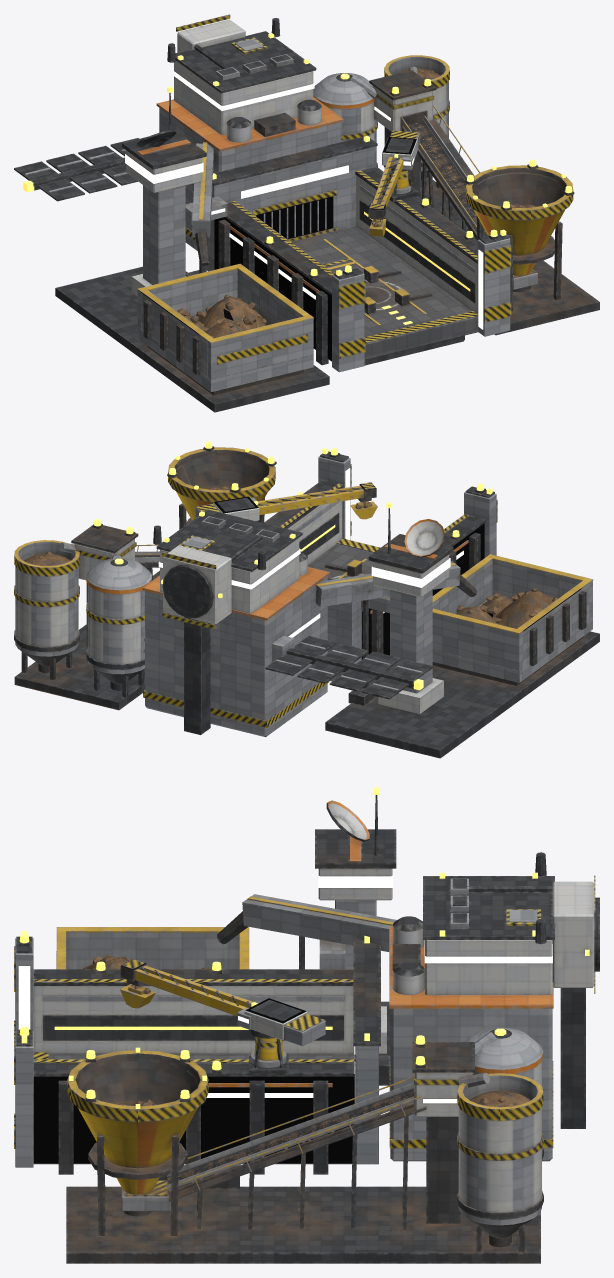
The model's file is mining_outpost.glb.
3 views of the same model, one above another, from view 1: azimuth 30°, elevation 25°; view 2: azimuth 150°, elevation 25°; view 3: azimuth 270°, elevation 25° (orthographic). The views are drawn at different scales.
Visible parts, largest first — view 1: outpost_structure, outpost_hangar, outpost_silos, unload_arm, ore_conveyor_belt, outpost_crane, unload_lights; view 2: outpost_structure, outpost_silos, outpost_hangar, unload_arm, unload_lights, ore_silo_fill; view 3: outpost_silos, outpost_structure, outpost_hangar, unload_arm, ore_conveyor_belt, outpost_crane, unload_lights, ore_silo_fill.
Part boxes in pixels (left/top/right/bottom): outpost_structure: left=14, top=14, right=343, bottom=412; outpost_hangar: left=206, top=136, right=511, bottom=372; outpost_silos: left=313, top=55, right=599, bottom=335; unload_arm: left=368, top=130, right=419, bottom=236; ore_conveyor_belt: left=407, top=119, right=487, bottom=236; outpost_crane: left=382, top=165, right=419, bottom=202; unload_lights: left=266, top=79, right=572, bottom=275; outpost_structure: left=142, top=502, right=599, bottom=758; outpost_silos: left=14, top=446, right=276, bottom=710; outpost_hangar: left=264, top=448, right=497, bottom=681; unload_arm: left=195, top=482, right=377, bottom=521; unload_lights: left=94, top=441, right=483, bottom=537; ore_silo_fill: left=23, top=551, right=70, bottom=565; outpost_silos: left=66, top=1027, right=543, bottom=1263; outpost_structure: left=56, top=787, right=599, bottom=1161; outpost_hangar: left=14, top=931, right=380, bottom=1174; unload_arm: left=120, top=959, right=325, bottom=1046; ore_conveyor_belt: left=167, top=1087, right=413, bottom=1184; outpost_crane: left=249, top=1029, right=288, bottom=1075; unload_lights: left=19, top=934, right=425, bottom=1098; ore_silo_fill: left=469, top=1090, right=530, bottom=1107.
Size of the model in its own units: 53.7 by 26.35 by 50.61.
5 materials, 2 textured.
